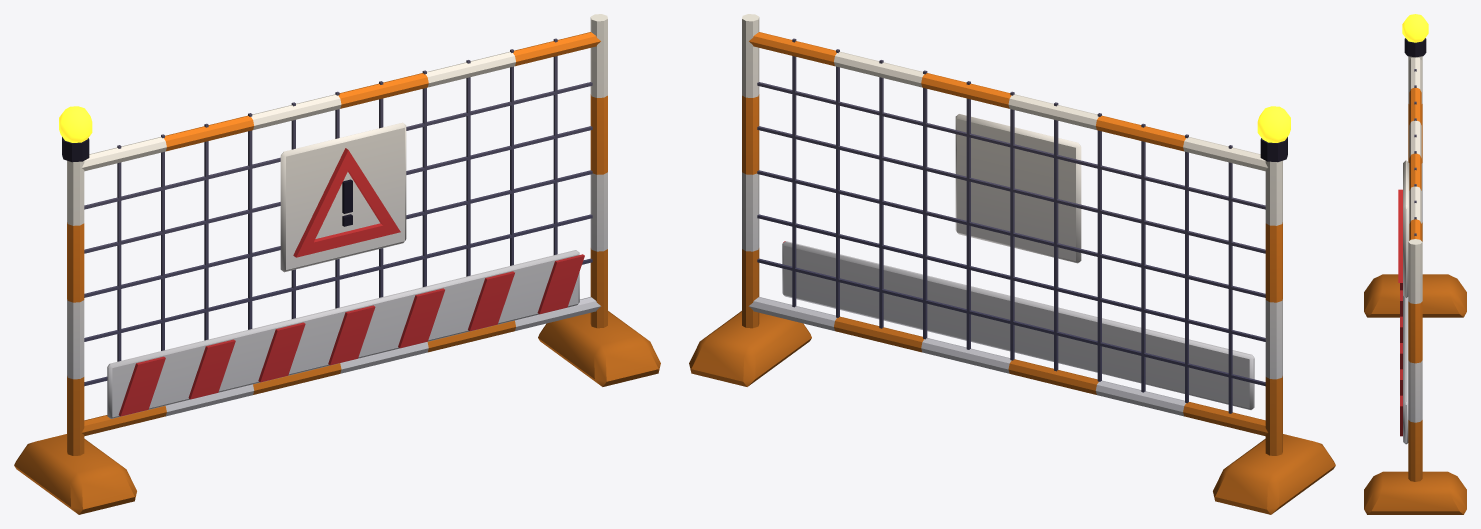
Rendered from fence_warning.glb.
The picture shows the model from 3 angles, left to right: view 1: azimuth 30°, elevation 25°; view 2: azimuth 150°, elevation 25°; view 3: azimuth 270°, elevation 25°; orthographic projection. The views are drawn at different scales.
Visible parts, largest first — view 1: fence_warning; view 2: fence_warning; view 3: fence_warning.
Boxes of the visible parts, x1=… form: fence_warning: x1=14, y1=14, x2=660, y2=514; fence_warning: x1=689, y1=14, x2=1335, y2=514; fence_warning: x1=1364, y1=14, x2=1466, y2=514.
Size of the model in its own units: 3.38 by 2.07 by 0.6612.
